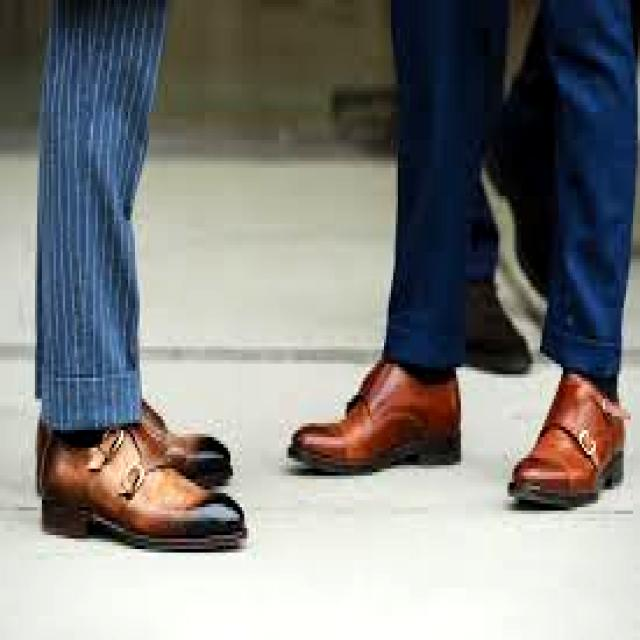foot-wear: (45, 421, 246, 550), (36, 391, 235, 494), (289, 356, 465, 469), (509, 374, 623, 507)
